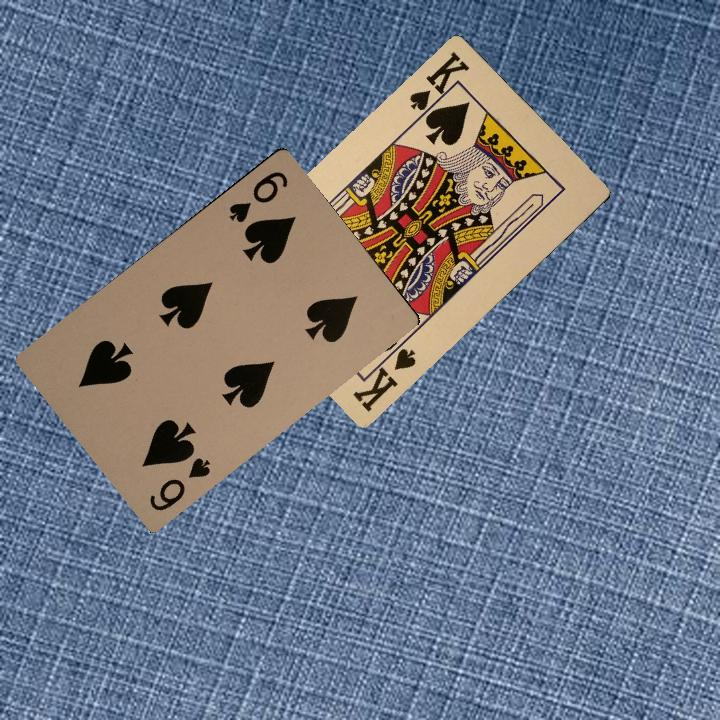6s: (145, 453, 213, 514), (224, 167, 291, 226)
Ks: (348, 338, 419, 414), (405, 47, 473, 123)
